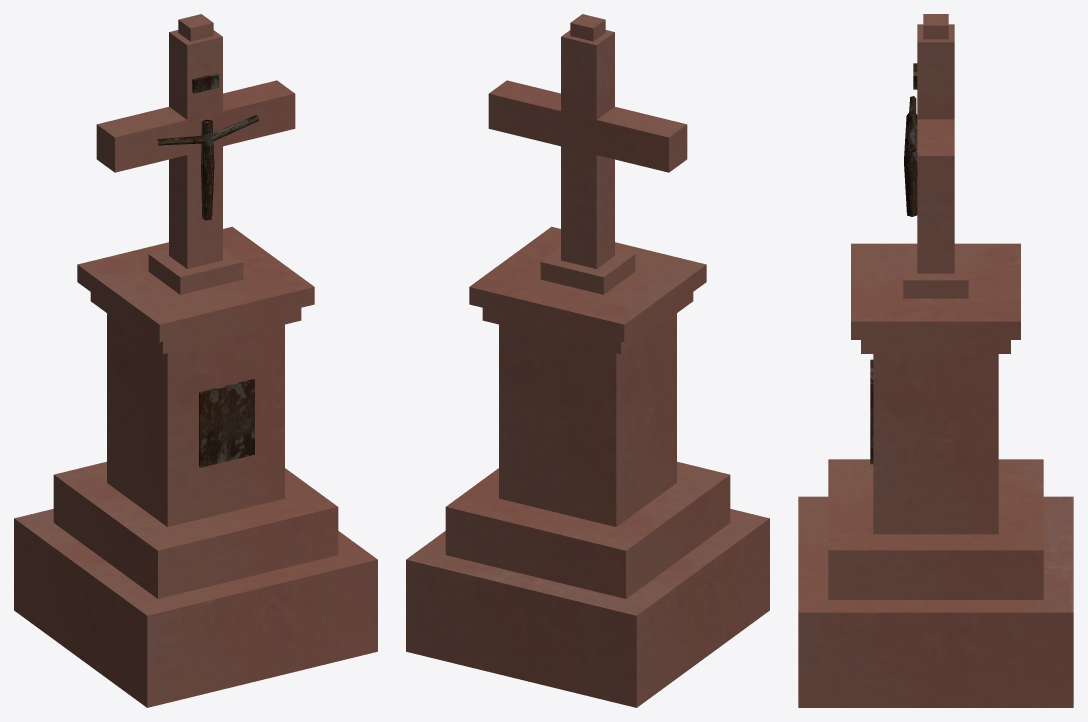
Rendered from wegekreuz.glb.
The picture shows the model from 3 angles, left to right: view 1: azimuth 30°, elevation 25°; view 2: azimuth 150°, elevation 25°; view 3: azimuth 270°, elevation 25°; orthographic projection. The views are drawn at different scales.
Parts seen in each view (by area): view 1: Wegekreuz_Stone, Wegekreuz_Bronze; view 2: Wegekreuz_Stone; view 3: Wegekreuz_Stone, Wegekreuz_Bronze.
Boxes of the visible parts, left/top/right/bottom form: Wegekreuz_Stone: left=14, top=14, right=377, bottom=707; Wegekreuz_Bronze: left=157, top=73, right=258, bottom=467; Wegekreuz_Stone: left=406, top=14, right=769, bottom=707; Wegekreuz_Stone: left=798, top=14, right=1073, bottom=707; Wegekreuz_Bronze: left=870, top=63, right=917, bottom=464.
Size of the model in its own units: 1.1 by 2.78 by 1.1.
Materials: 2 (2 with a texture image).
